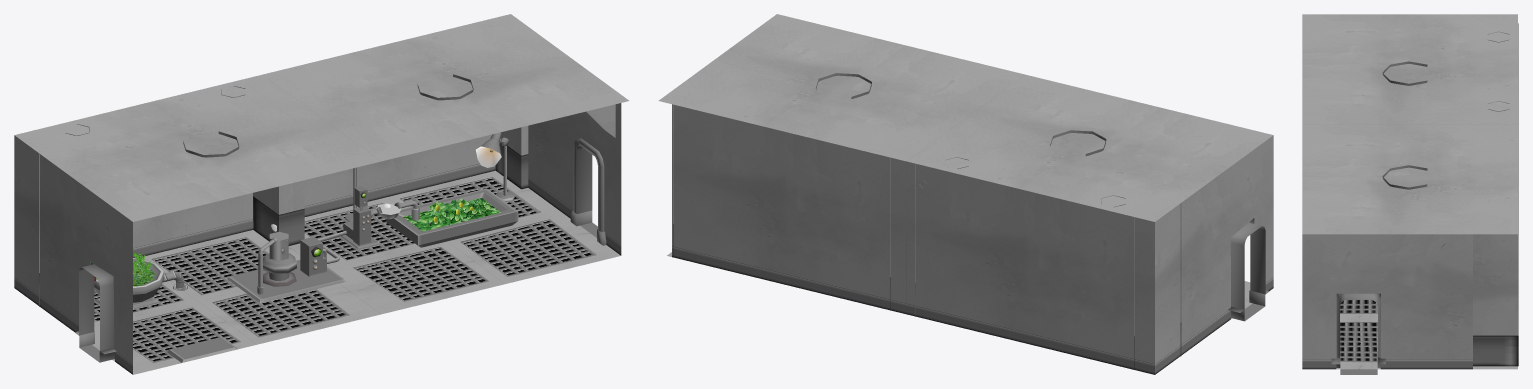
File: MSH_Hydroponic_farm_room_L1_R2_optimized.fbx
3 views of the same model, side by side, from view 1: azimuth 30°, elevation 25°; view 2: azimuth 150°, elevation 25°; view 3: azimuth 270°, elevation 25° (orthographic). The views are drawn at different scales.
Visible parts, largest first — view 1: lightmap1, lightmap0, lightmap-1; view 2: lightmap1, lightmap-1, lightmap0; view 3: lightmap1, lightmap0, lightmap-1.
Boxes of the visible parts, x1,y1,x2,y2 form: lightmap1: [14, 14, 629, 374]; lightmap0: [65, 69, 518, 362]; lightmap-1: [79, 146, 597, 362]; lightmap1: [658, 14, 1273, 374]; lightmap-1: [1230, 222, 1265, 321]; lightmap0: [816, 73, 1125, 207]; lightmap1: [1302, 14, 1518, 369]; lightmap0: [1382, 31, 1511, 261]; lightmap-1: [1340, 293, 1377, 374].
Bounding box in the file's own units: 20.61 × 5.97 × 8.28.
